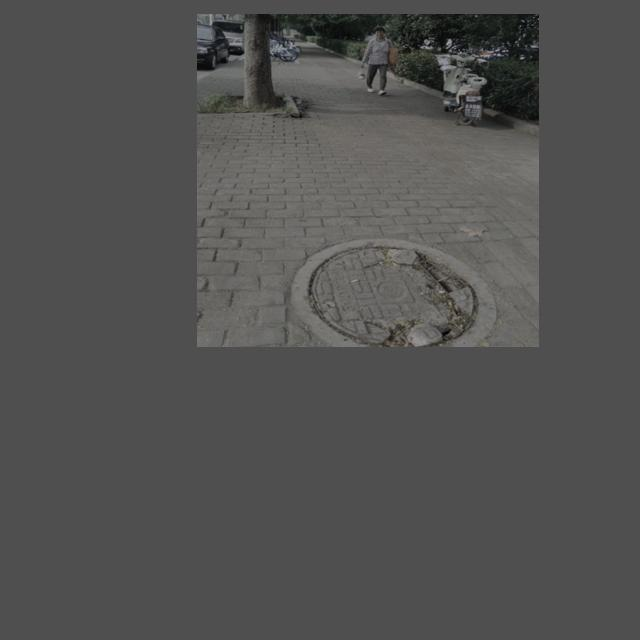broke: (290, 237, 498, 347)
